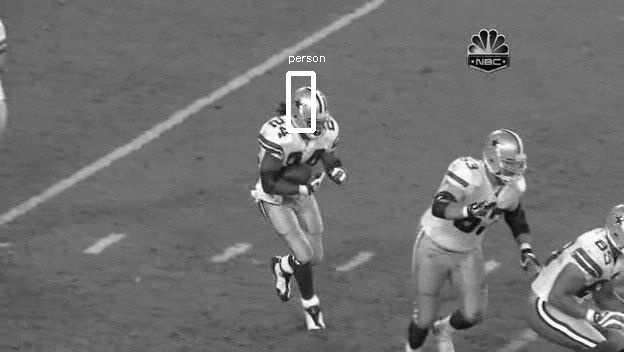person: (293, 88, 329, 134), (292, 88, 328, 134), (294, 88, 330, 134), (293, 87, 329, 133), (293, 89, 329, 135)
target_negative: (26, 162, 460, 350), (65, 258, 575, 283), (420, 227, 539, 293), (263, 53, 288, 231), (236, 327, 322, 351), (93, 341, 156, 343)
